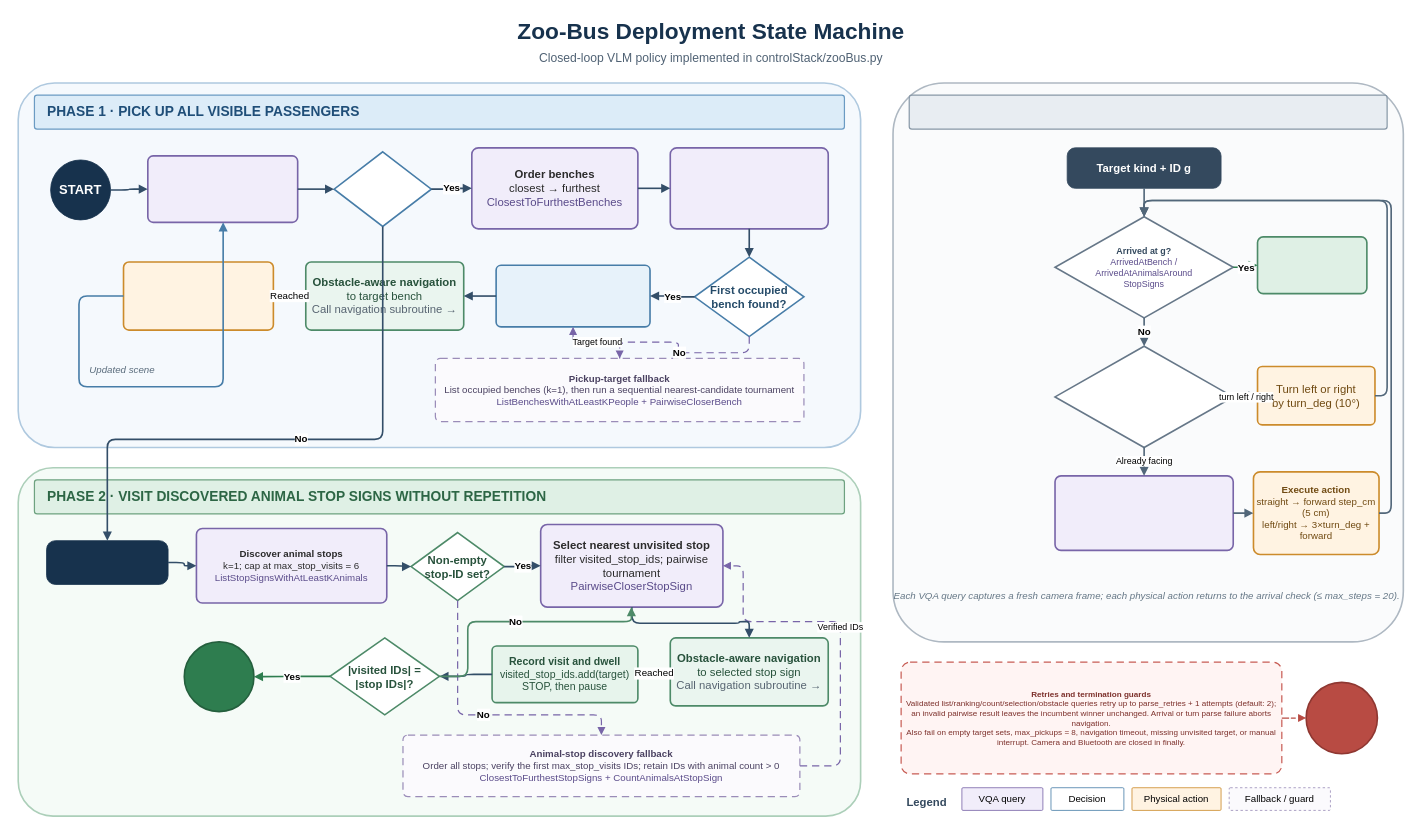
Image size: 1421x830. Some labels were removed from this diagram. The shapes that lost their labels are listed below. From the top down, each one's centre as x and y in pixels, then its label:
the point at 1147,111: SHARED CLOSED-LOOP OBSTACLE-AWARE NAVIGATION
the point at 222,189: Count visible people CountPeople
the point at 382,189: CountPeople > 0?
the point at 749,188: Scan in ranked order select first bench with positive count CountPeopleAtBench
the point at 1311,265: STOP + return success
the point at 198,295: STOP for pickup manual confirmation, or auto-continue after pause
the point at 572,295: Set pickup target nearest occupied bench
the point at 1144,396: Turn response? TurnDirectionToBench / TurnDirectionToStopSign
the point at 1144,513: Choose obstacle action AvoidObstacleToReachBench / AvoidObstacleToReachStopSign
the point at 107,562: CountPeople = 0
the point at 218,676: TASK SUCCESS
the point at 1341,717: TASK FAILURE
